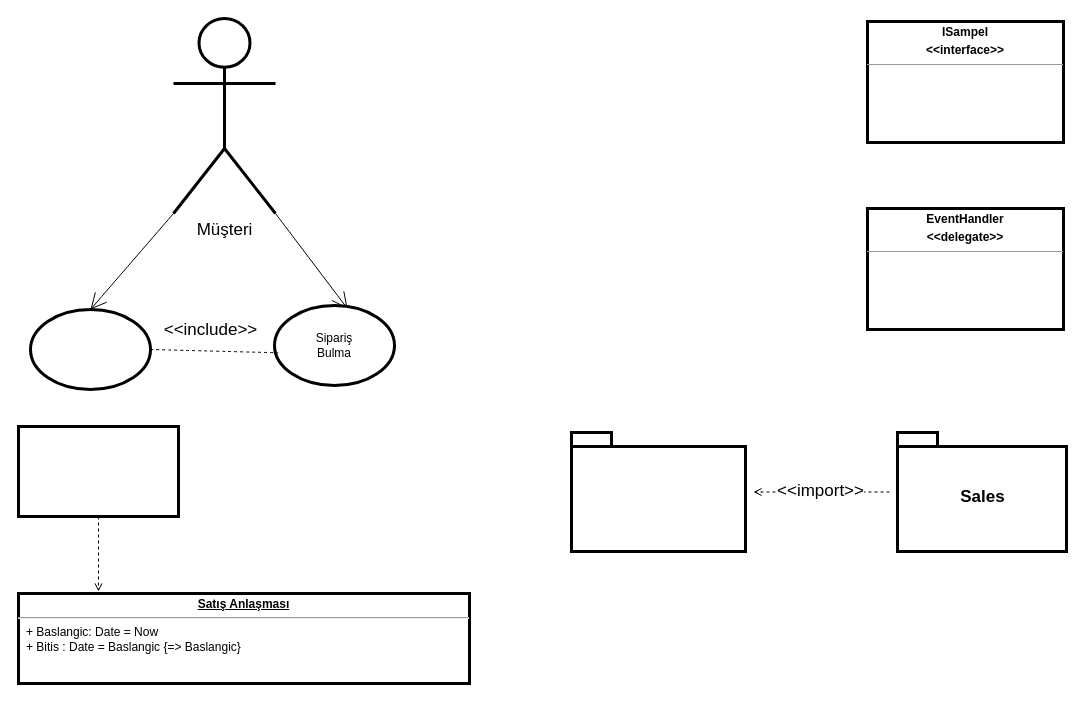
This 1085x702 diagram has some shape labels left out. Each missing label, with the box of its shape:
Geri ödeme: (28, 308, 152, 390)
Kontrat: (16, 424, 180, 518)
Scheduling: (570, 430, 746, 552)
